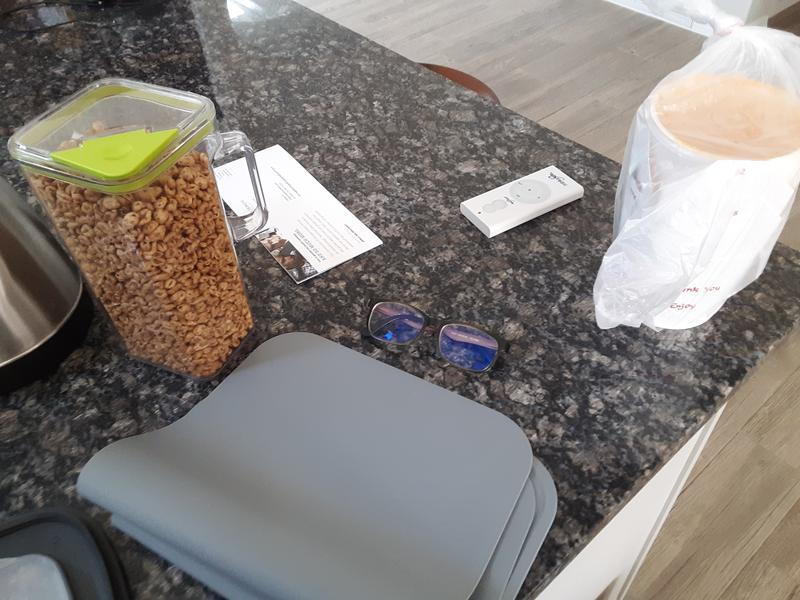glasses: (362, 297, 512, 383)
